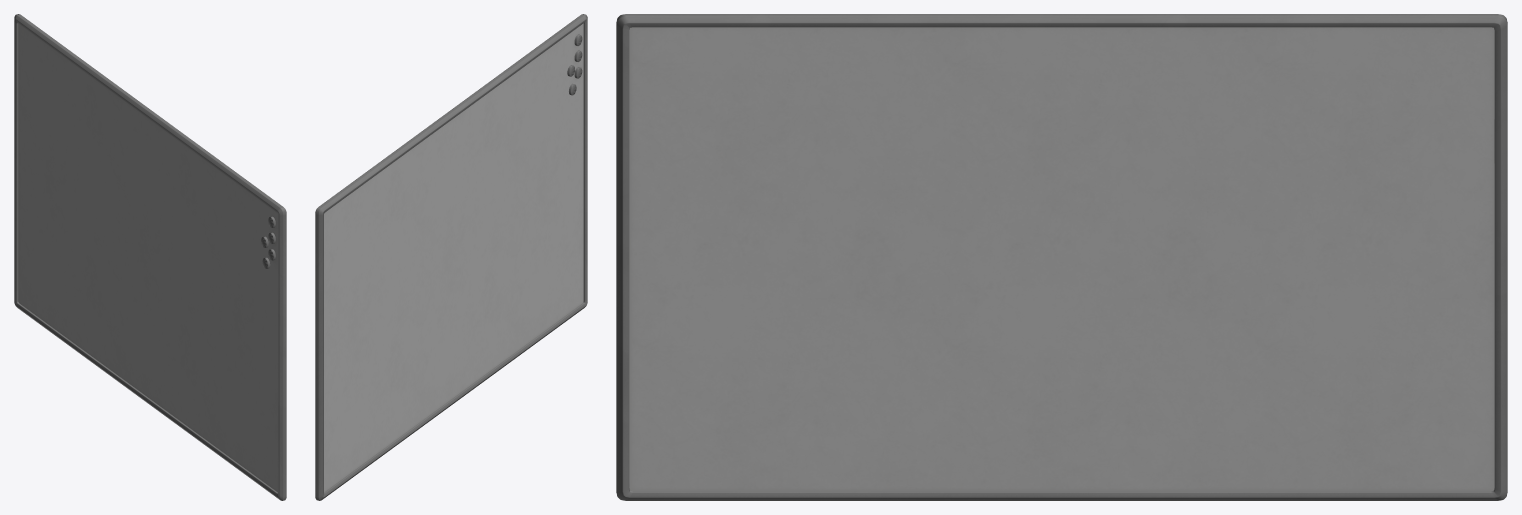
The model's file is SM_Whiteboard_Standless_03.fbx.
3 renders of one model, left to right at view 1: azimuth 30°, elevation 25°; view 2: azimuth 150°, elevation 25°; view 3: azimuth 270°, elevation 25°, orthographic. The views are drawn at different scales.
Parts seen in each view (by area): view 1: SM_Whiteboard_Standless_03_LOD0; view 2: SM_Whiteboard_Standless_03_LOD0; view 3: SM_Whiteboard_Standless_03_LOD0.
Part boxes in pixels (left/top/right/bottom): SM_Whiteboard_Standless_03_LOD0: left=14, top=14, right=286, bottom=500; SM_Whiteboard_Standless_03_LOD0: left=315, top=14, right=587, bottom=500; SM_Whiteboard_Standless_03_LOD0: left=616, top=14, right=1507, bottom=500.
Bounding box in the file's own units: 2.44 × 150 × 90.
